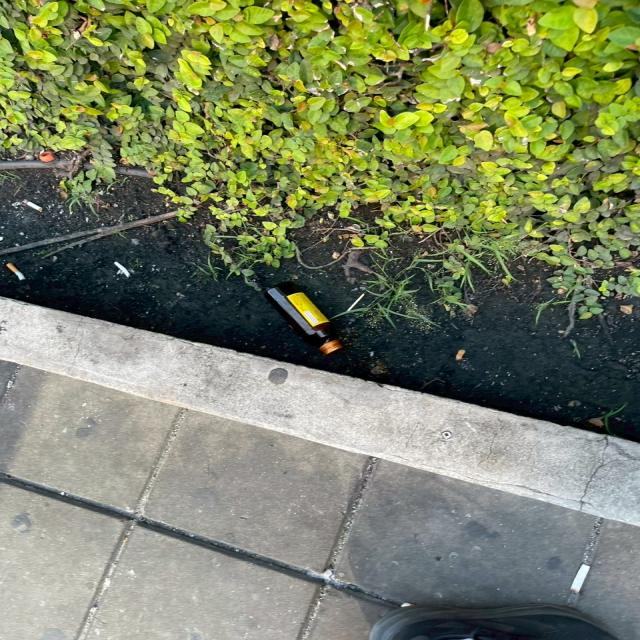glass bottle: (241, 284, 353, 359)
